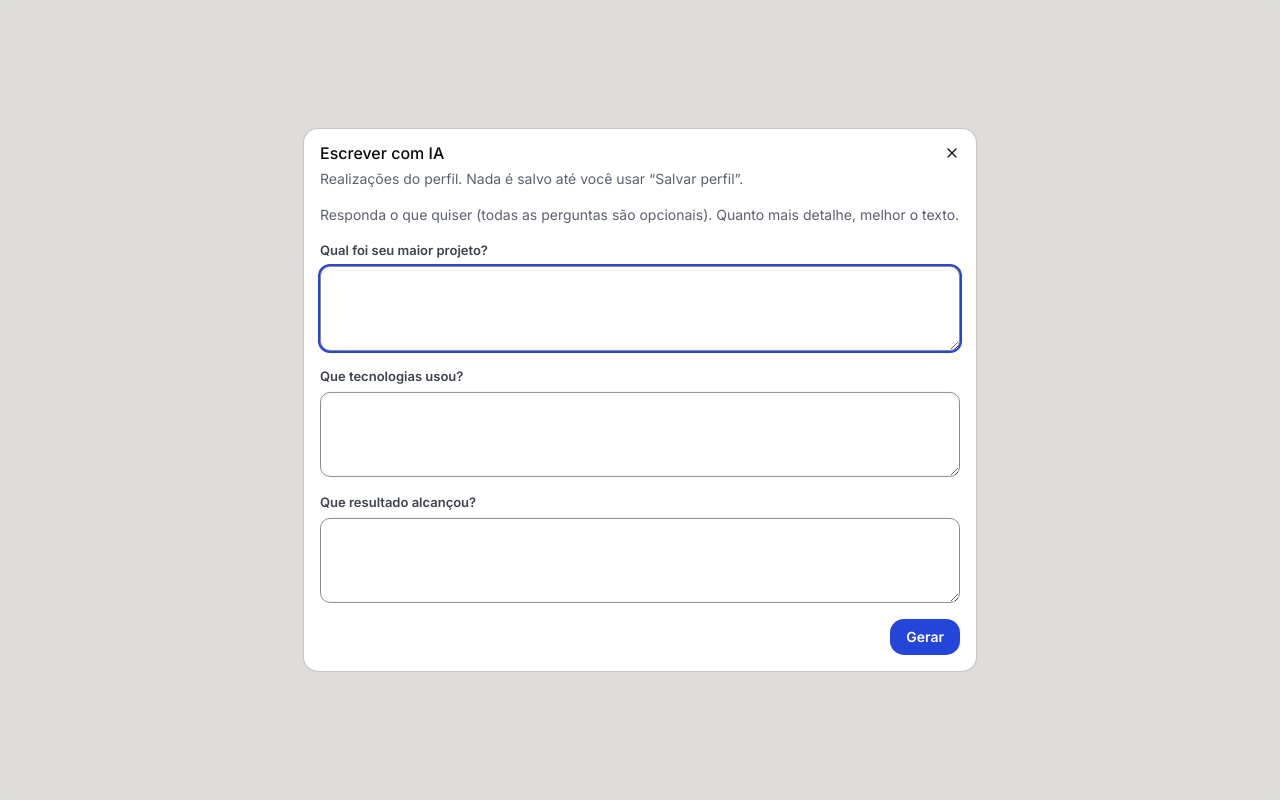
Test: AssistantDialog: entrevista › bullets: uma textarea por bullet e Remover tira um
Later steps or results of the test are not shown.
Click the button "Gerar" at (925, 637), box [890, 619, 960, 655]
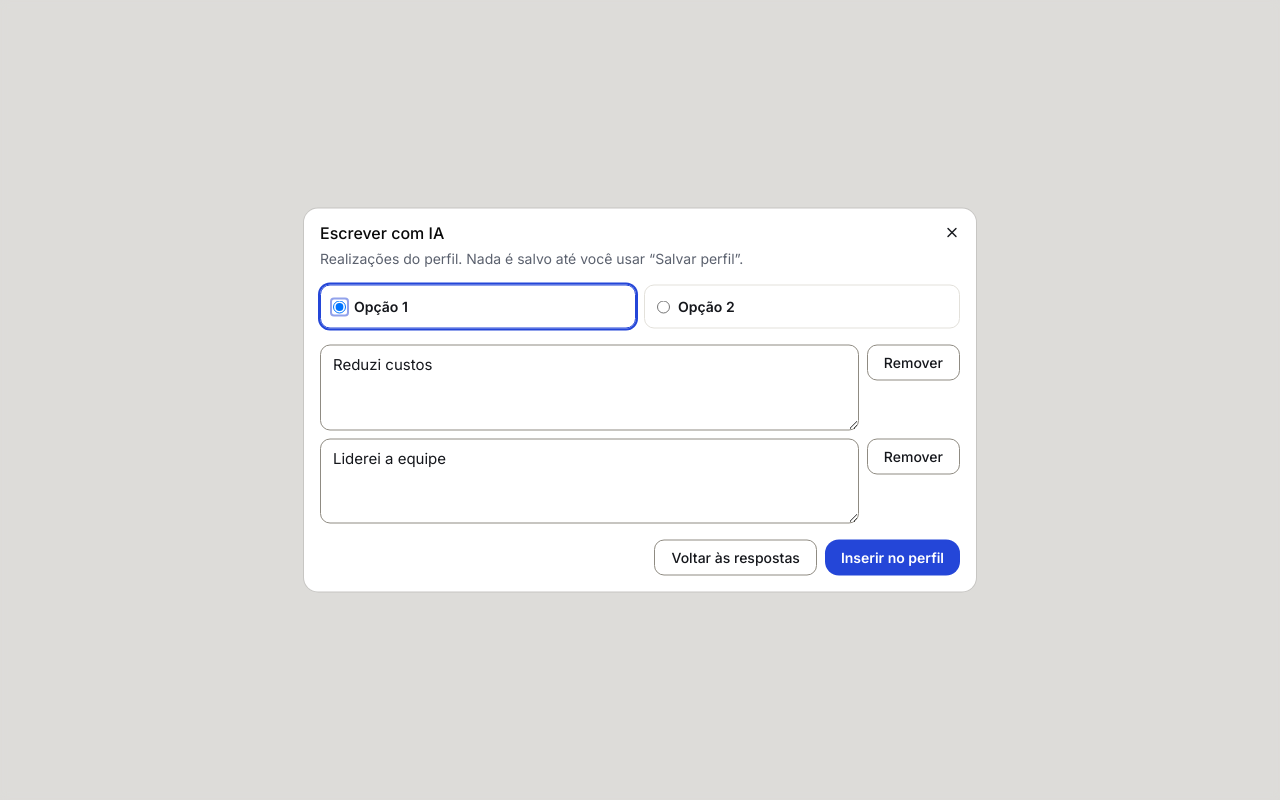
Now the element showing "Opção 1 Opção 2" is shown, box [320, 284, 960, 328]
Now the number of text boxes is 2, box [320, 344, 859, 430]; [320, 438, 859, 524]
Click the button with aria-label "Remover realização 1" at (913, 362), box [867, 344, 960, 380]
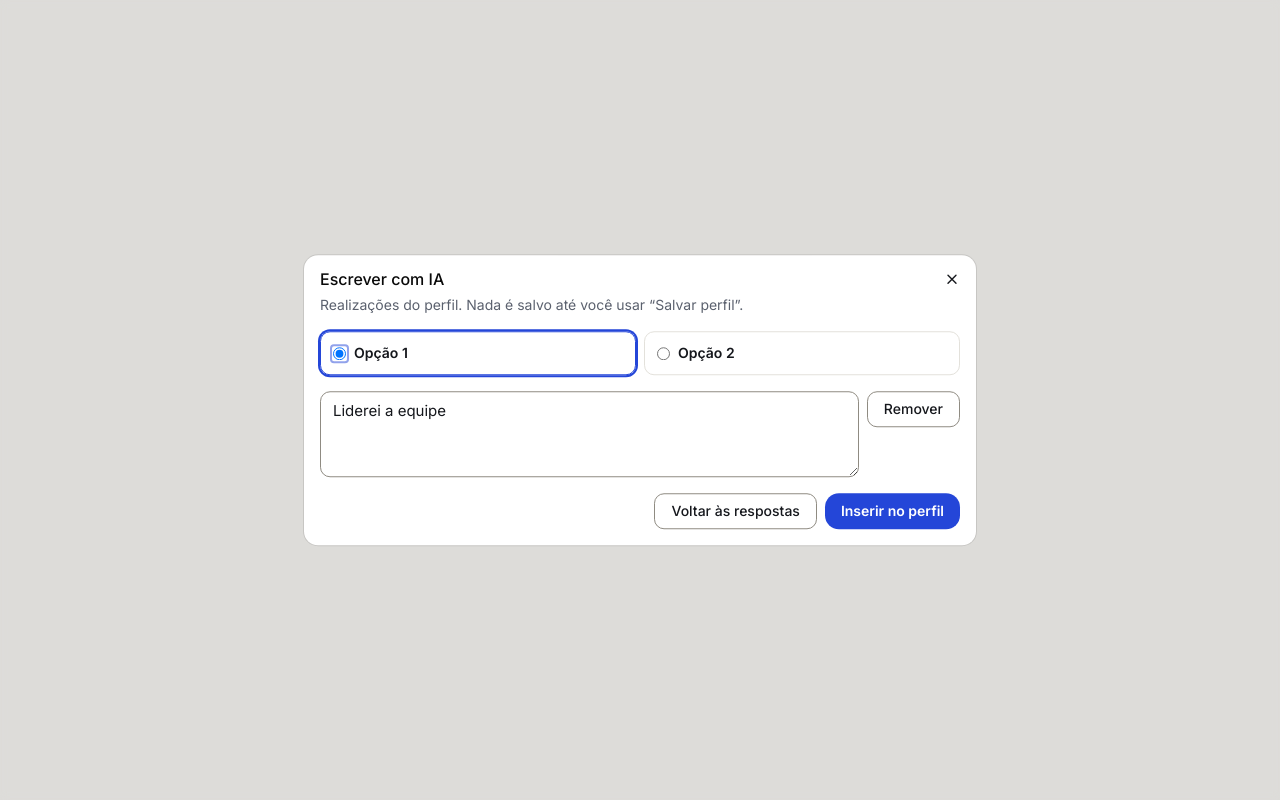
Now the number of text boxes is 1, box [320, 391, 859, 477]
